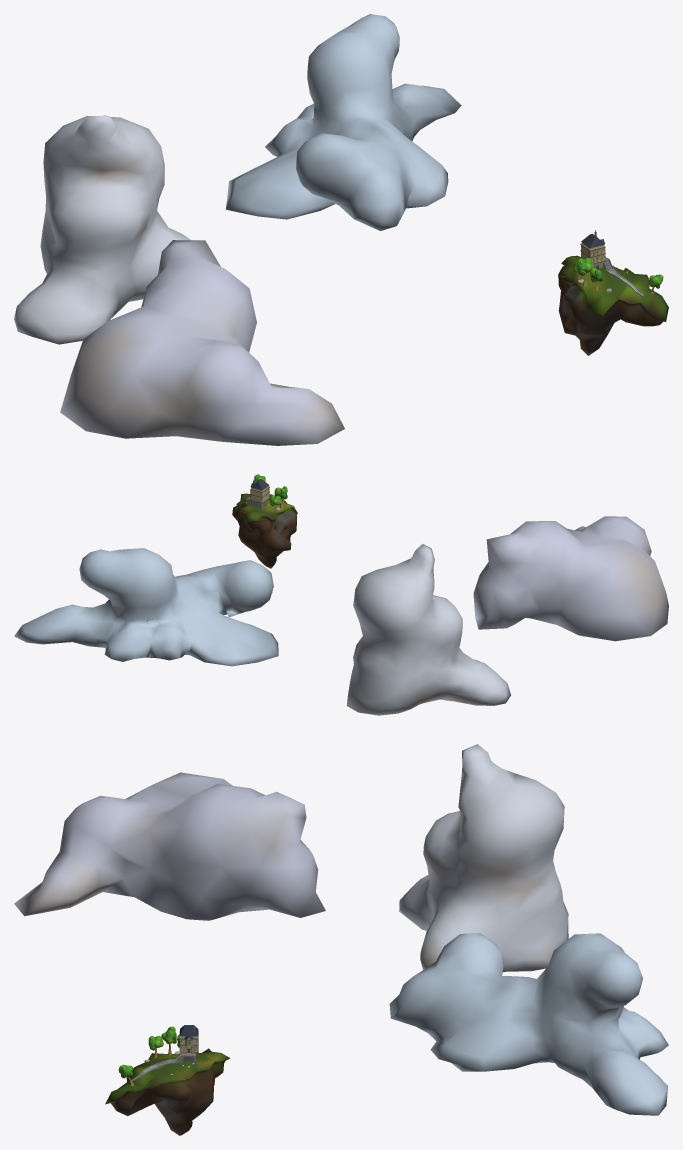
The model's file is island.glb.
3 renders of one model, top to bottom at view 1: azimuth 30°, elevation 25°; view 2: azimuth 150°, elevation 25°; view 3: azimuth 270°, elevation 25°, orthographic. The views are drawn at different scales.
Parts seen in each view (by area): view 1: Icosphere.012, Icosphere.013, Icosphere.004, Icosphere.022, Cube; view 2: Icosphere.013, Icosphere.012, Icosphere.004, Icosphere.022, Cube; view 3: Icosphere.012, Icosphere.013, Icosphere.004, Icosphere.022, Cube.
Part boxes in pixels (x1,y1,x2,y2): Icosphere.012: [60, 240, 344, 445]; Icosphere.013: [225, 14, 461, 230]; Icosphere.004: [14, 115, 190, 344]; Icosphere.022: [558, 255, 668, 355]; Cube: [580, 230, 613, 270]; Icosphere.013: [14, 548, 278, 666]; Icosphere.012: [473, 516, 668, 641]; Icosphere.004: [346, 544, 510, 715]; Icosphere.022: [232, 493, 297, 568]; Cube: [247, 479, 269, 508]; Icosphere.012: [14, 772, 325, 920]; Icosphere.013: [389, 933, 668, 1115]; Icosphere.004: [399, 744, 568, 971]; Icosphere.022: [105, 1048, 230, 1135]; Cube: [175, 1025, 198, 1064].
Size of the model in its own units: 143 by 49.85 by 135.
